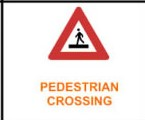Traffic signal: (48, 6, 110, 61)
